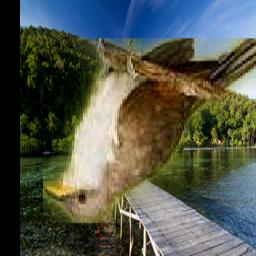Cuckoo: (42, 39, 256, 224)
